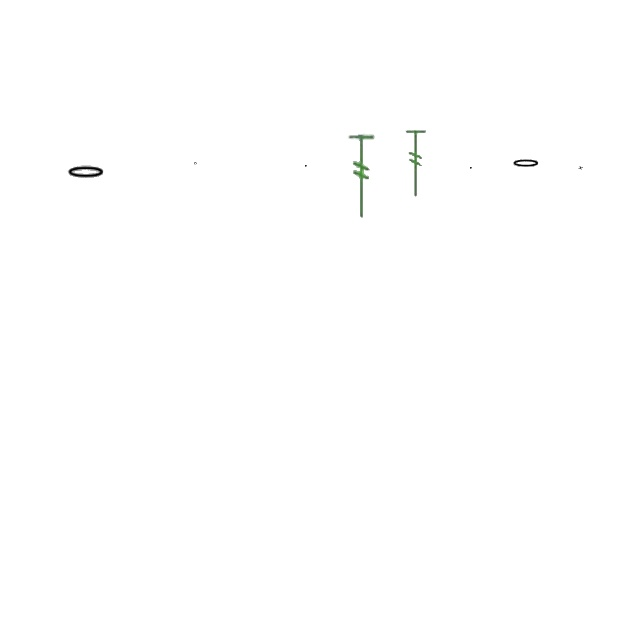chain: (65, 164, 107, 182), (511, 158, 541, 170), (194, 162, 198, 166), (305, 165, 307, 167), (470, 167, 472, 169)
enseble_chain: (578, 166, 584, 170)
fan: (346, 134, 376, 220), (403, 128, 429, 200)
